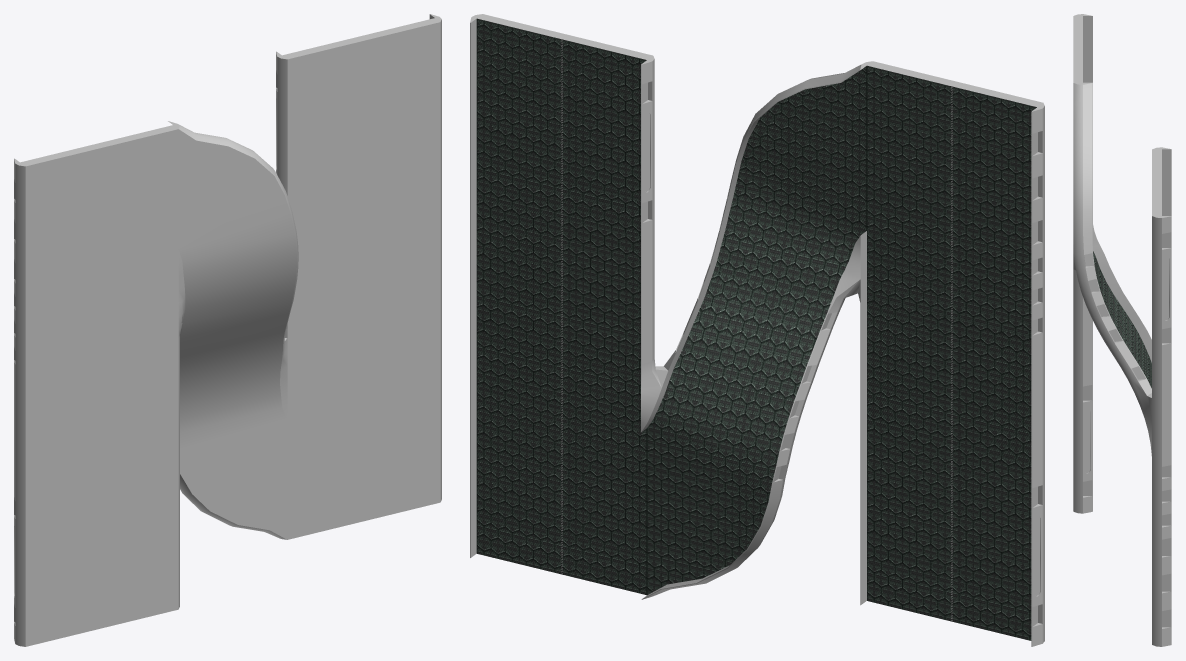
The model's file is highway_lane_change_B.fbx.
The picture shows the model from 3 angles, left to right: view 1: azimuth 30°, elevation 25°; view 2: azimuth 150°, elevation 25°; view 3: azimuth 270°, elevation 25°; orthographic projection. The views are drawn at different scales.
Parts seen in each view (by area): view 1: highway_lane_change_B; view 2: highway_lane_change_B, light_016; view 3: highway_lane_change_B.
Boxes of the visible parts, left/top/right/bottom form: highway_lane_change_B: left=14, top=14, right=441, bottom=646; highway_lane_change_B: left=470, top=14, right=1044, bottom=646; light_016: left=561, top=39, right=952, bottom=620; highway_lane_change_B: left=1073, top=14, right=1171, bottom=646.
Bounding box in the file's own units: 24.5 × 24 × 5.
